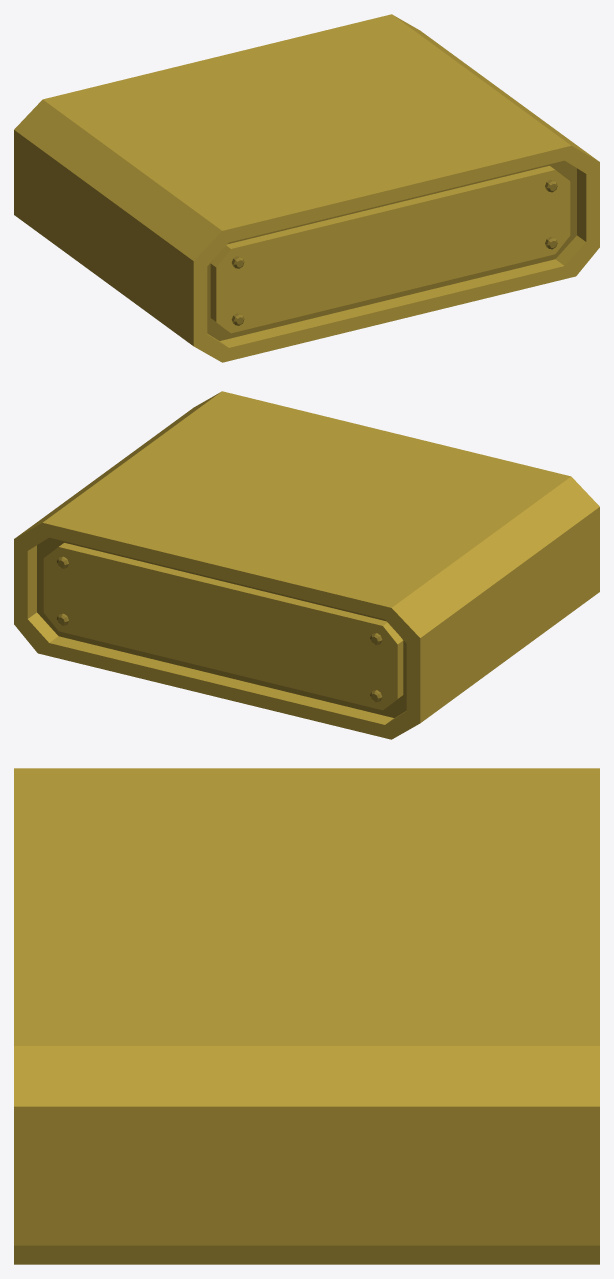
File: MovingPlatform.glb
3 renders of one model, top to bottom at view 1: azimuth 30°, elevation 25°; view 2: azimuth 150°, elevation 25°; view 3: azimuth 270°, elevation 25°, orthographic. The views are drawn at different scales.
Parts seen in each view (by area): view 1: MovingPlatform; view 2: MovingPlatform; view 3: MovingPlatform.
Boxes of the visible parts, <box> form: MovingPlatform: <box>14,14,599,362</box>; MovingPlatform: <box>14,391,599,739</box>; MovingPlatform: <box>14,768,599,1264</box>.
Size of the model in its own units: 4.27 by 1.32 by 3.27.
